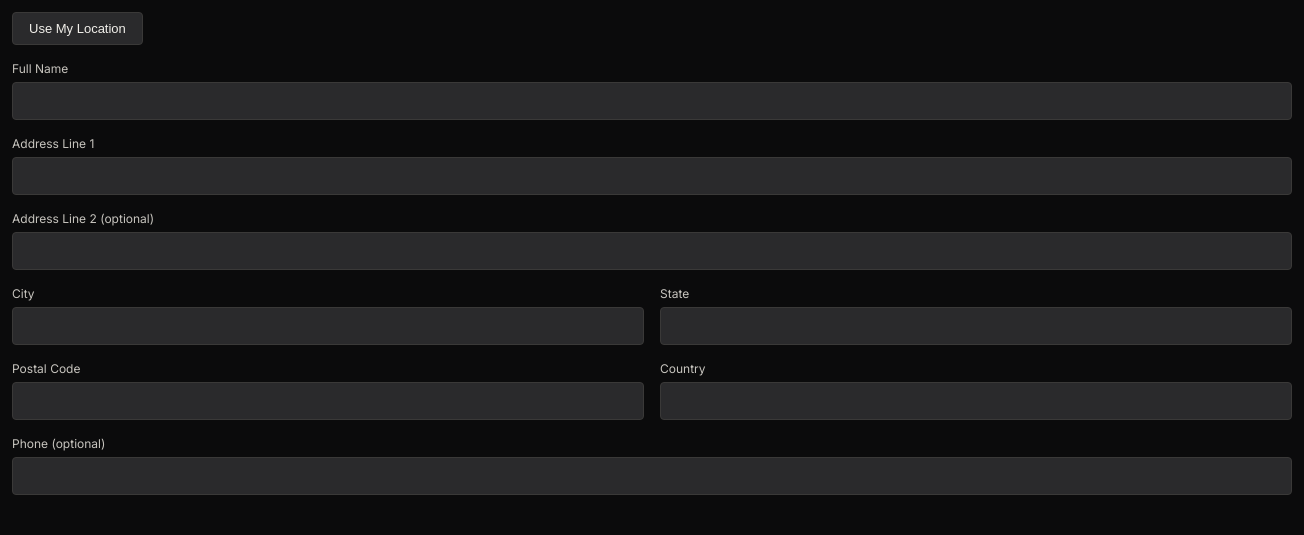
Test: AddressForm › shows an error message when the user denies the geolocation permission
This screenshot has width=1304, height=535.
Click the button "Use My Location" at (77, 28), box [12,12,143,45]
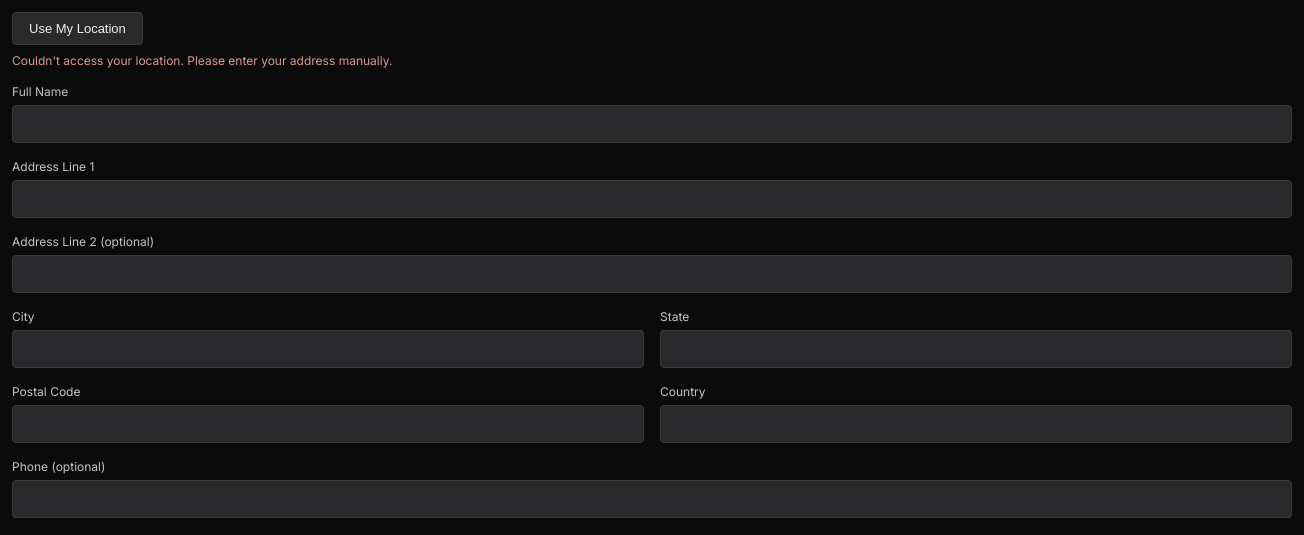
Result: the text "couldn.t access your location" is shown at [12,53,392,68]
